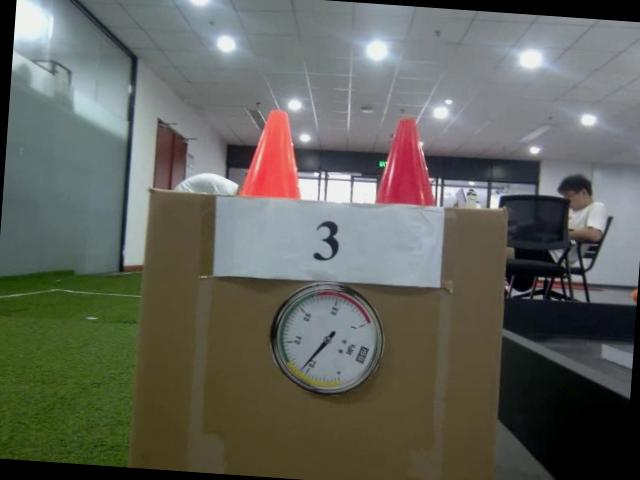3: (309, 215, 343, 264)
Dashboard: (267, 279, 387, 397)
orange_barrel: (238, 106, 308, 200)
red_barrel: (377, 117, 438, 208)
ssi: (355, 344, 369, 364)
